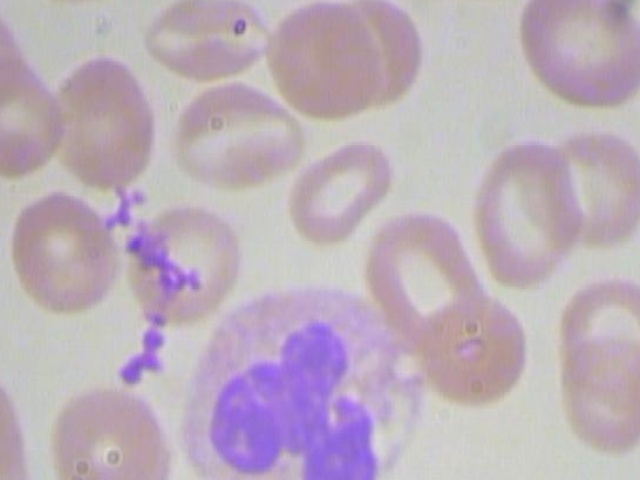RBC: (464, 137, 588, 292), (166, 72, 316, 193), (125, 194, 242, 329), (2, 184, 119, 318), (412, 283, 529, 417), (262, 0, 383, 129), (47, 52, 163, 186), (282, 127, 396, 256), (513, 0, 640, 115), (532, 119, 640, 253), (52, 381, 169, 480), (133, 0, 274, 82), (0, 49, 70, 181), (11, 0, 149, 10), (376, 0, 526, 1)
WBC: (172, 272, 441, 480)
